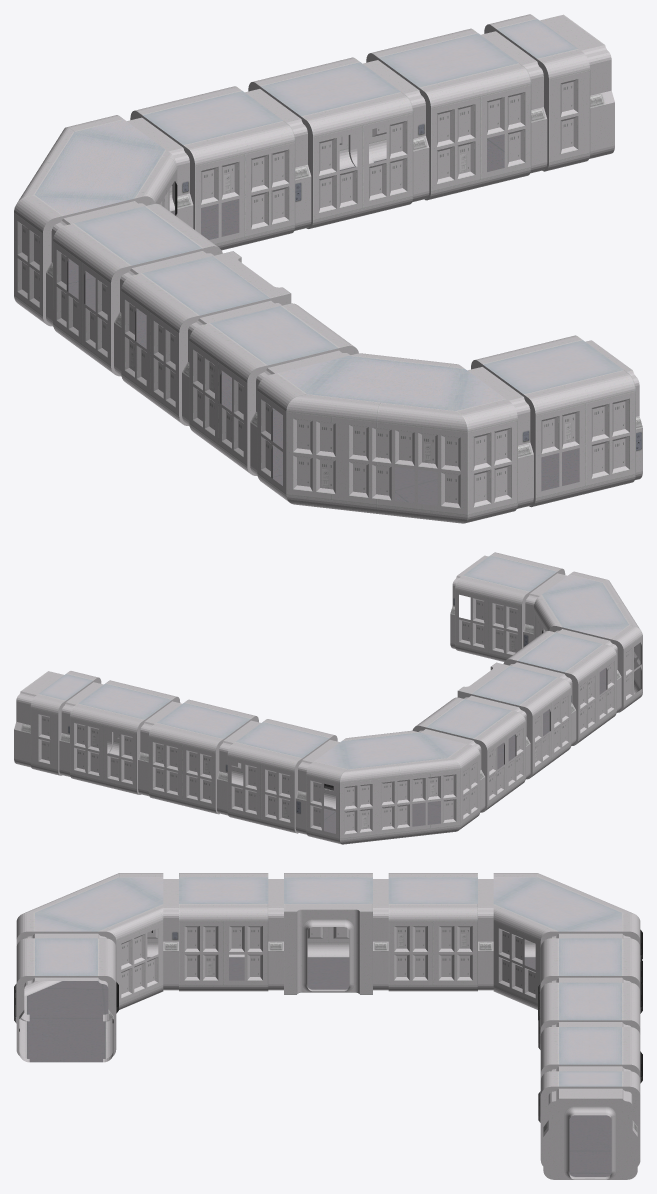
File: thm_spc_corvette_dungeon_r35_hall35_mesh_r35.fbx
3 views of the same model, one above another, from view 1: azimuth 30°, elevation 25°; view 2: azimuth 150°, elevation 25°; view 3: azimuth 270°, elevation 25° (orthographic). The views are drawn at different scales.
Visible parts, largest first — view 1: mesh_node; view 2: mesh_node; view 3: mesh_node.
Part boxes in pixels (left/top/right/bottom): mesh_node: left=14, top=14, right=642, bottom=523; mesh_node: left=14, top=552, right=642, bottom=844; mesh_node: left=14, top=873, right=642, bottom=1179.
Size of the model in its own units: 21 by 3.5 by 24.
